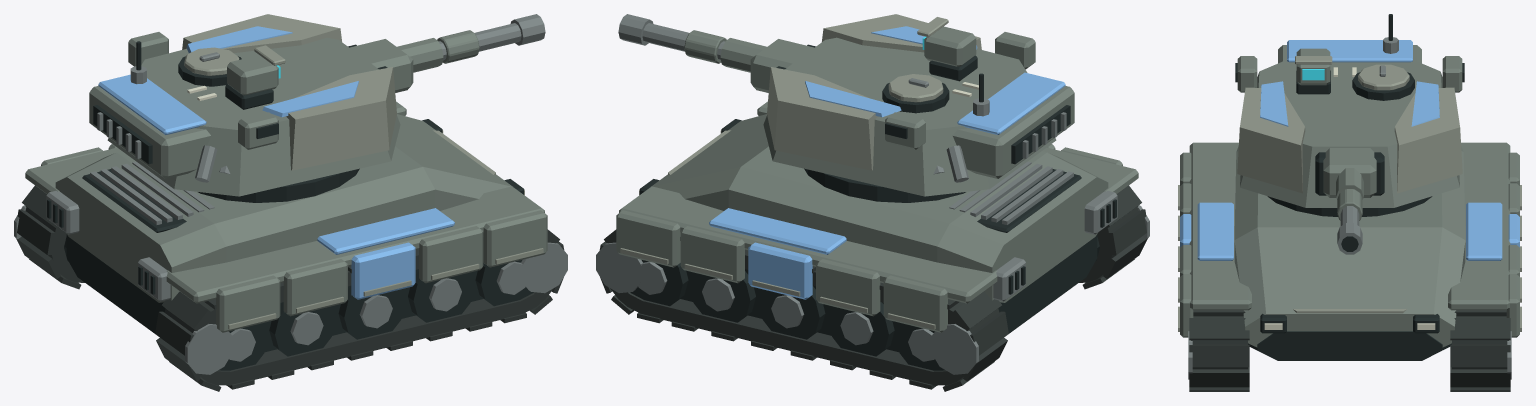
File: bulwark.glb
3 views of the same model, side by side, from view 1: azimuth 30°, elevation 25°; view 2: azimuth 150°, elevation 25°; view 3: azimuth 270°, elevation 25° (orthographic). The views are drawn at different scales.
Parts seen in each view (by area): view 1: Hull, Turret; view 2: Hull, Turret; view 3: Hull, Turret.
Boxes of the visible parts, bbox=[...] form: Hull: bbox=[14, 101, 567, 391]; Turret: bbox=[89, 14, 545, 196]; Hull: bbox=[596, 101, 1149, 391]; Turret: bbox=[618, 14, 1074, 196]; Hull: bbox=[1178, 142, 1521, 391]; Turret: bbox=[1235, 14, 1464, 254].
Size of the model in its own units: 2.67 by 1.53 by 1.94.
